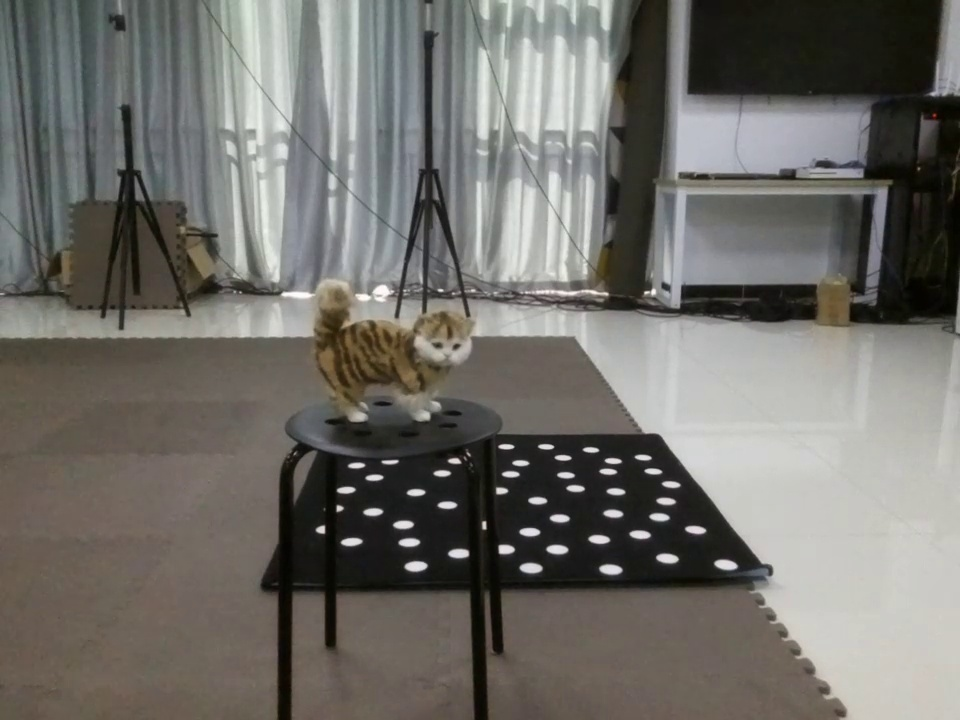cat: (296, 276, 483, 419)
